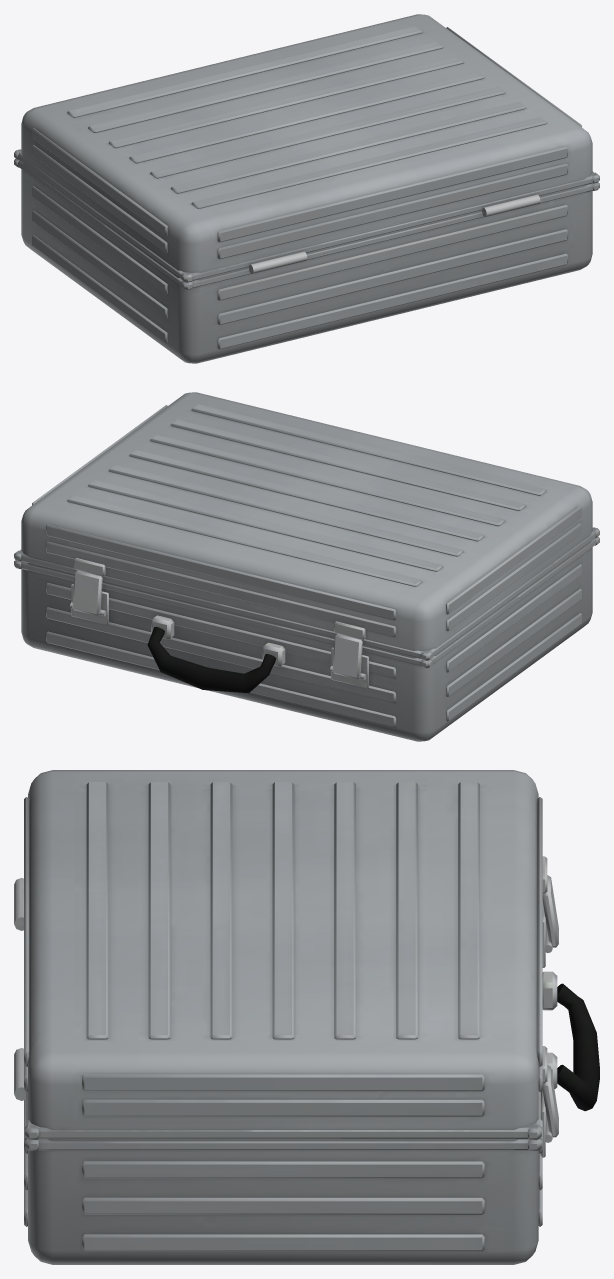
Rendered from payment_case.glb.
The picture shows the model from 3 angles, top to bottom: view 1: azimuth 30°, elevation 25°; view 2: azimuth 150°, elevation 25°; view 3: azimuth 270°, elevation 25°; orthographic projection. The views are drawn at different scales.
Parts seen in each view (by area): view 1: lid, lod0; view 2: lid, lod0; view 3: lid, lod0.
Boxes of the visible parts, x1,y1,x2,y2 form: lid: (14,14,599,282); lod0: (14,158,599,363); lid: (14,392,599,660); lod0: (14,536,599,741); lid: (24,770,547,1139); lod0: (14,875,599,1264).
Size of the model in its own units: 0.4651 by 0.1586 by 0.3786.
1 material, 1 textured.
